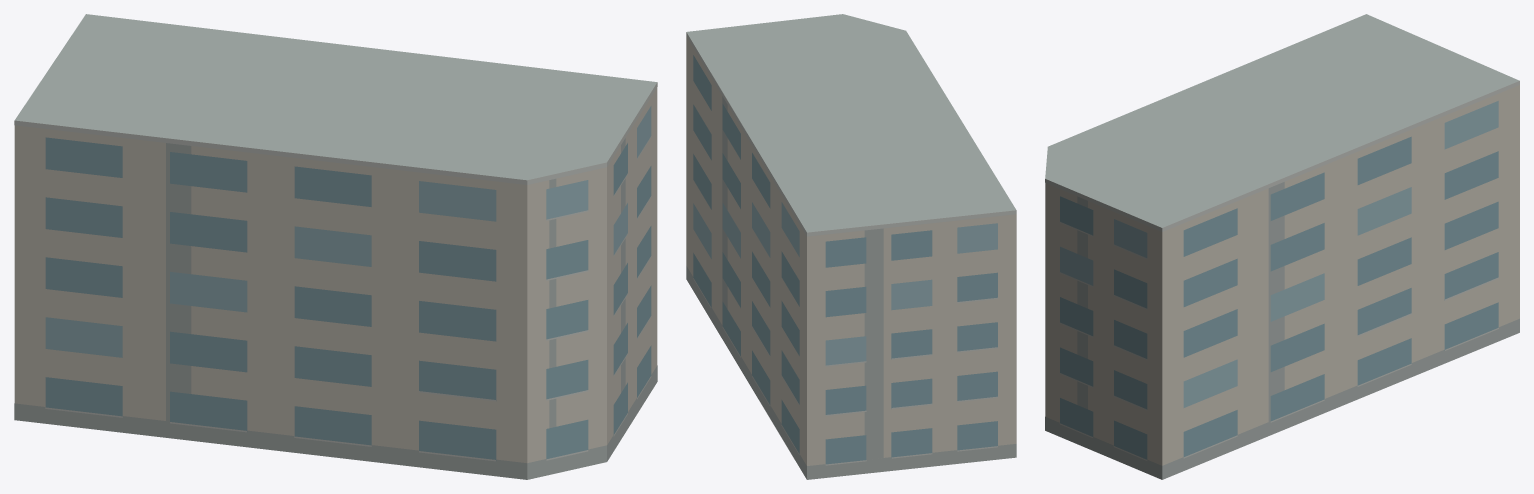
The model's file is survey-upis-32742483.glb.
3 views of the same model, side by side, from view 1: azimuth 30°, elevation 25°; view 2: azimuth 150°, elevation 25°; view 3: azimuth 270°, elevation 25° (orthographic). The views are drawn at different scales.
Parts seen in each view (by area): view 1: survey-upis-32742483.tmp; view 2: survey-upis-32742483.tmp; view 3: survey-upis-32742483.tmp.
Part boxes in pixels (x1,y1,x2,y2): survey-upis-32742483.tmp: (14, 14, 657, 479); survey-upis-32742483.tmp: (686, 14, 1016, 479); survey-upis-32742483.tmp: (1045, 14, 1519, 479).
Bounding box in the file's own units: 27.52 × 15.1 × 25.8.
